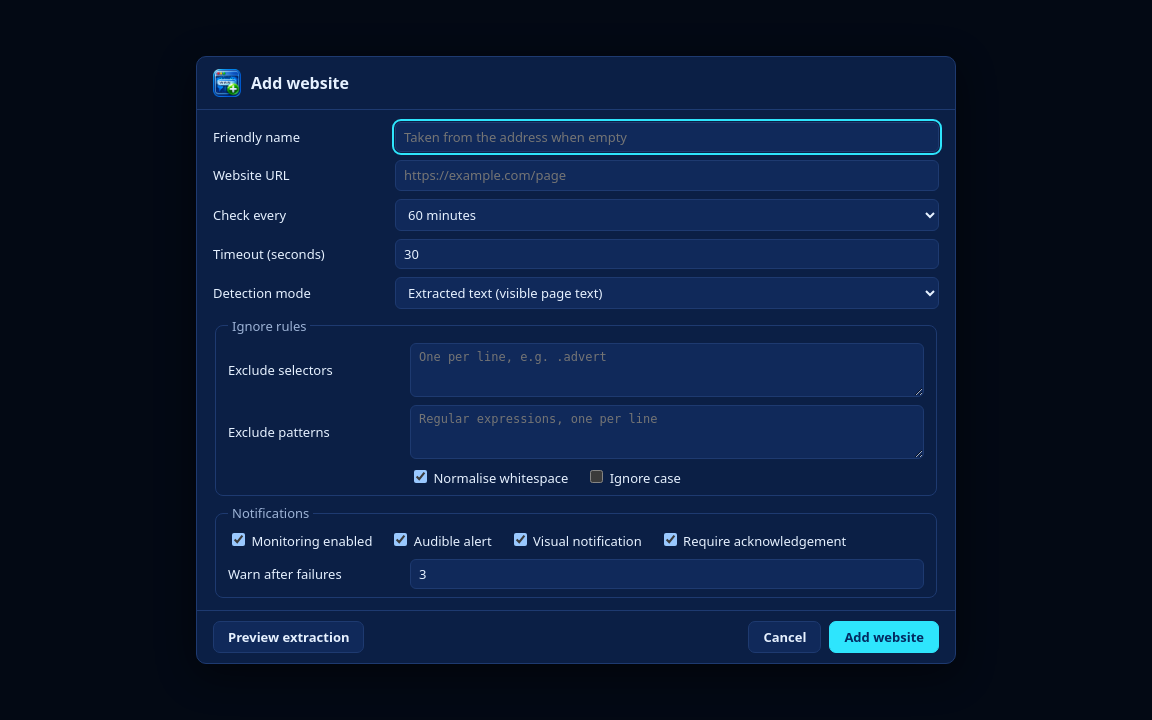
Test case: SiteDialog ready-made readings › keeps text mode when the user moves a filled-in page back to it
Type "https://shop.example/dp/0123456789" into the field labelled "Website URL". click: coordinates (667, 176)
box: [395,160,939,191]
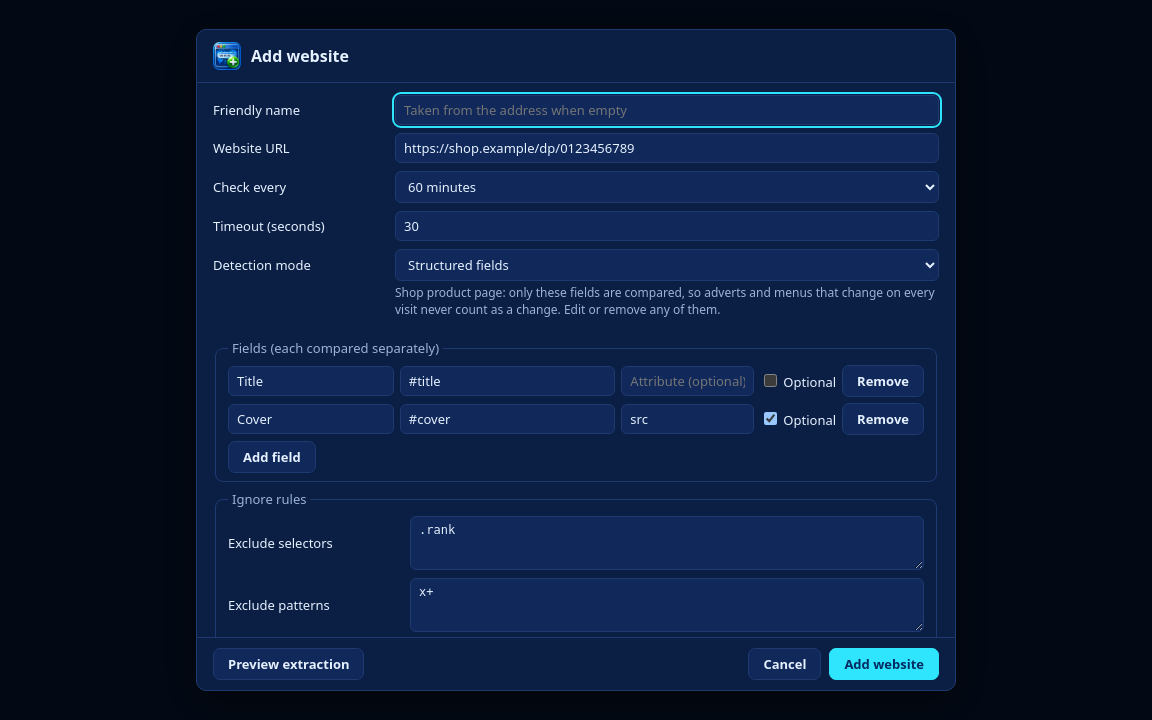
Select "Extracted text (visible page text)" in the dropdown labelled "Detection mode". click: coordinates (667, 265)
box: [395,249,939,281]
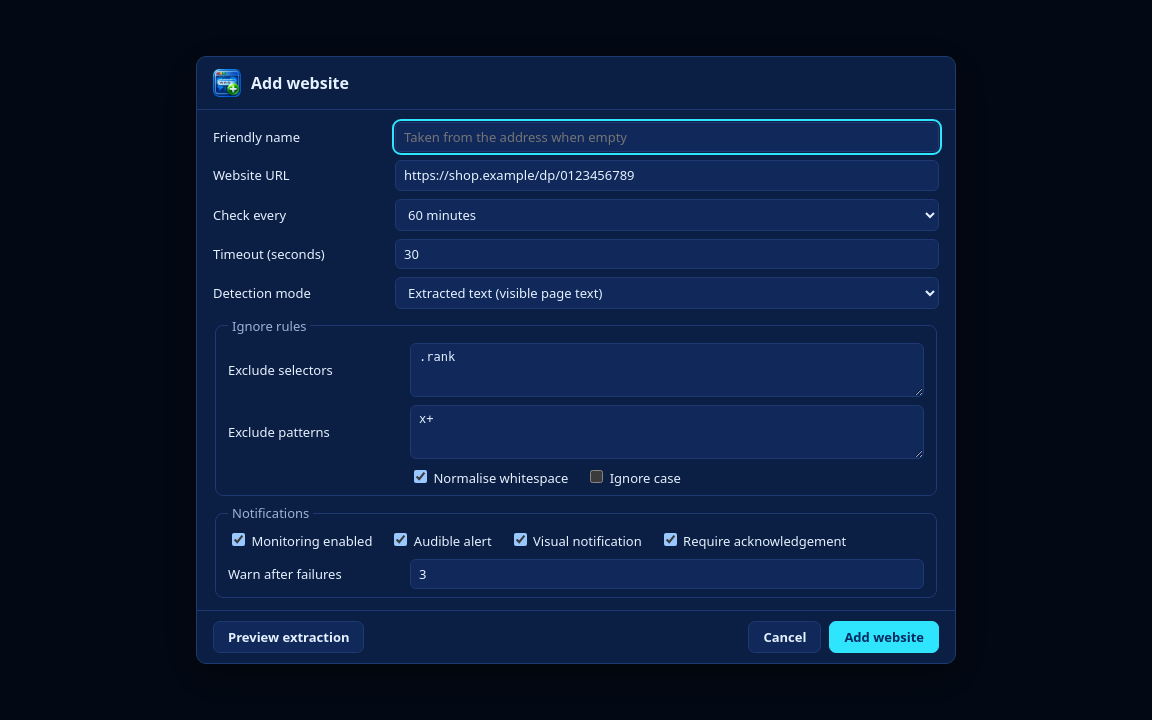
Now the text "only these fields are compared" is gone
